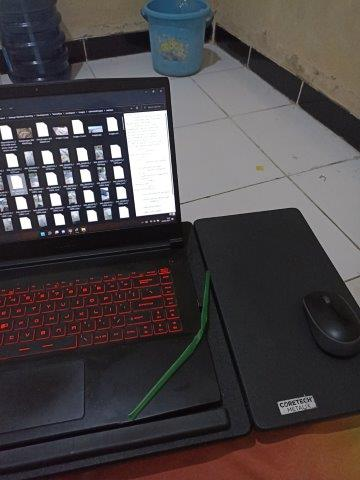sedotan: (131, 273, 211, 419)
